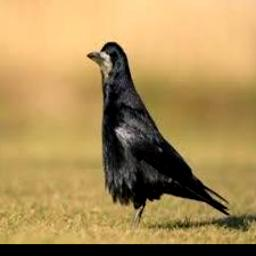Crow: (86, 41, 232, 228)
